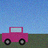vehicle: (2, 27, 28, 45)
